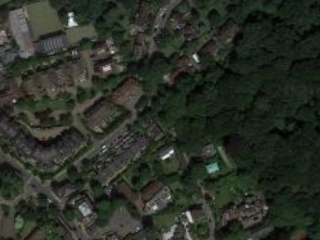Tree: (218, 66, 239, 94), (261, 76, 289, 97), (249, 37, 277, 58), (284, 56, 312, 77), (282, 134, 310, 155), (280, 182, 308, 203), (257, 102, 285, 123), (292, 98, 320, 119), (188, 93, 212, 116), (174, 74, 198, 97), (140, 58, 164, 81), (163, 102, 187, 124), (241, 142, 265, 164), (220, 96, 244, 118)
